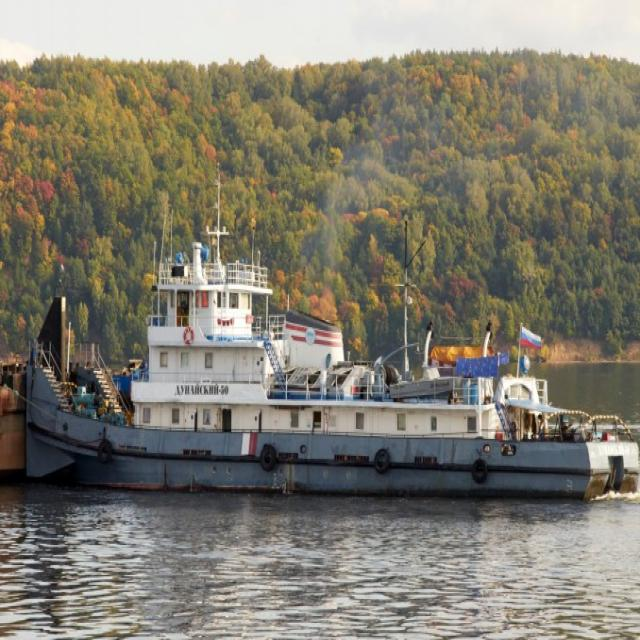tugboat: (19, 225, 640, 511)
